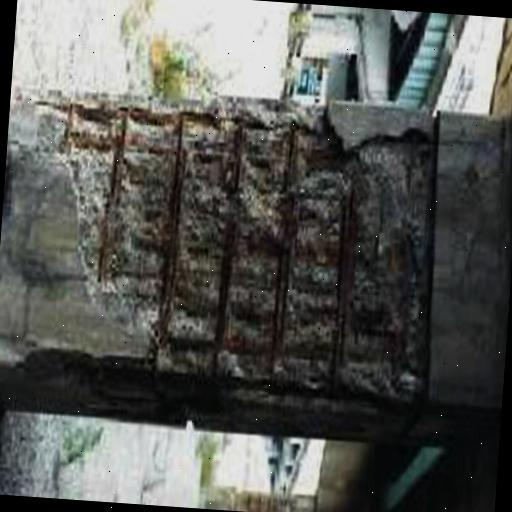spalling: (20, 86, 434, 448)
